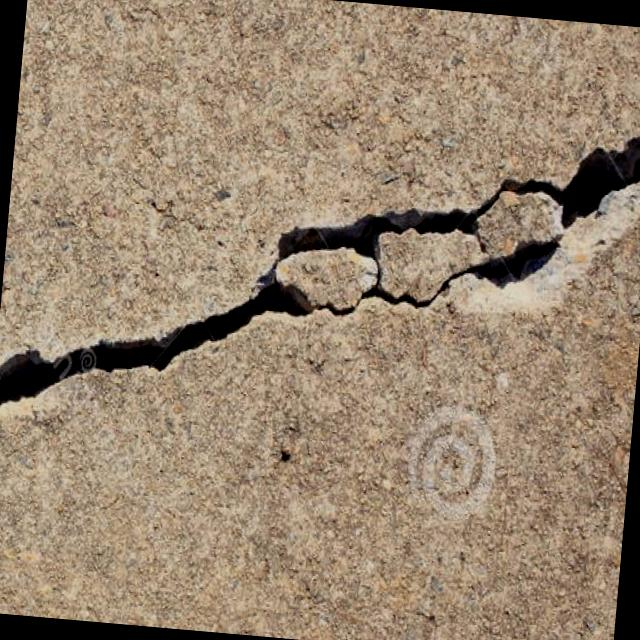crack: (0, 80, 640, 468)
